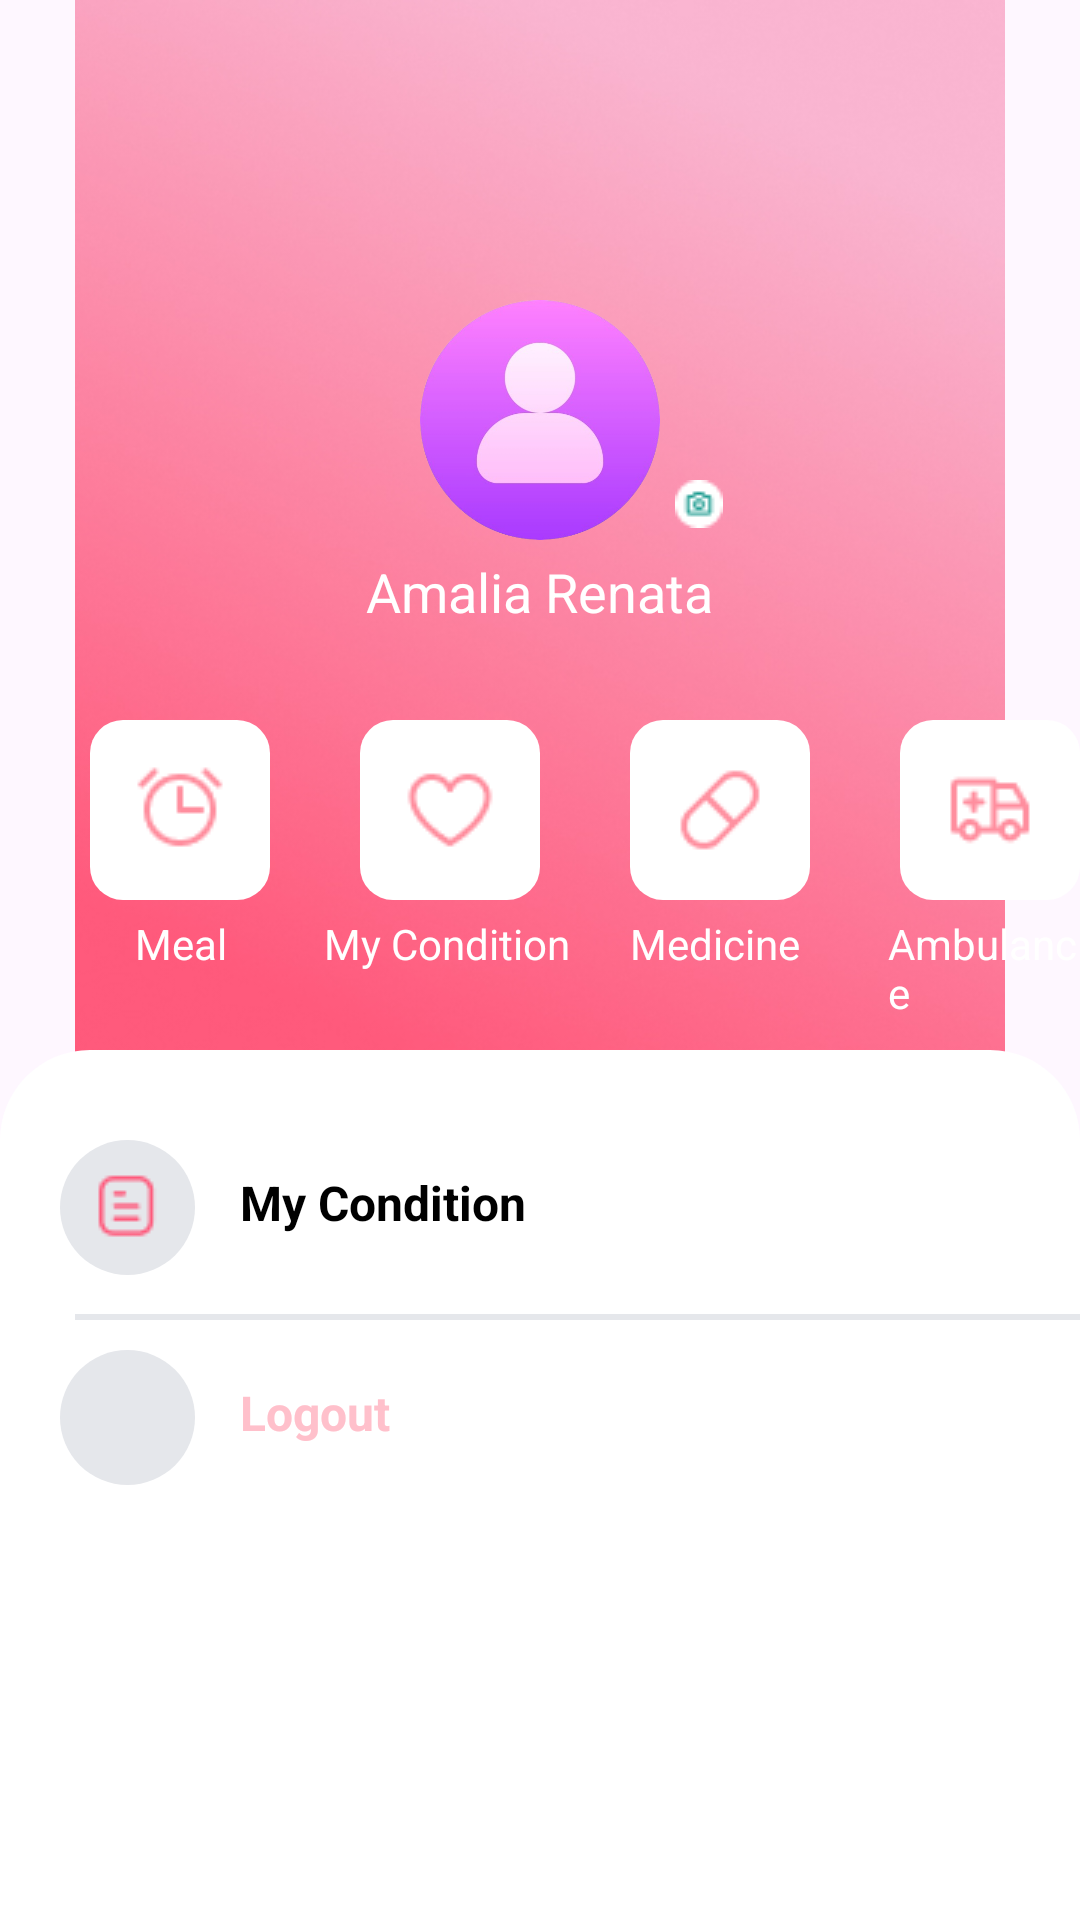

Where icons sit on this 1080 x 1920 app screen, as (x1, y1, x2, y2):
alarmclock: (137, 767, 223, 847)
kameracilik: (675, 480, 723, 528)
obatpink: (680, 770, 760, 850)
pinkdocument: (98, 1175, 154, 1237)
pinkheart: (408, 773, 492, 847)
